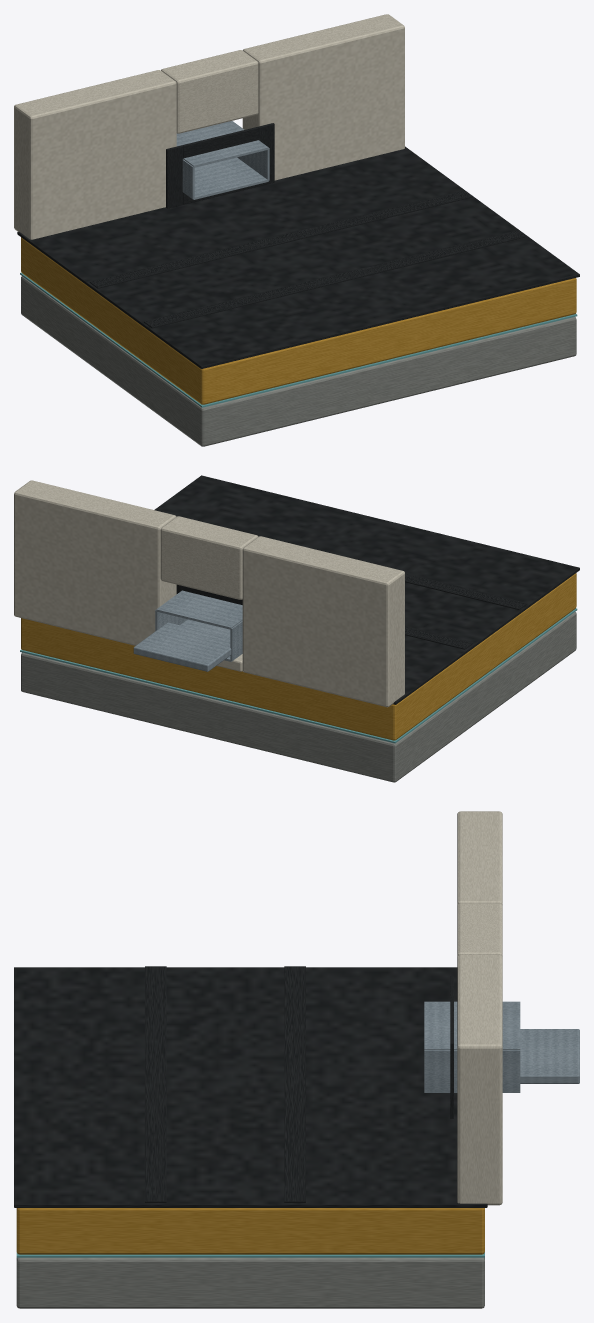
File: modell.glb
The picture shows the model from 3 angles, top to bottom: view 1: azimuth 30°, elevation 25°; view 2: azimuth 150°, elevation 25°; view 3: azimuth 270°, elevation 25°; orthographic projection. The views are drawn at different scales.
Visible parts, largest first — view 1: f04-abdichtung_deckung, f04-untergrund_, f04-untergrund_tragwerk, f04-daemmung_daemmung, f04-naht_deckung, f04-notablauf_, f04-luftdichtheit_luftdichtheit; view 2: f04-untergrund_, f04-abdichtung_deckung, f04-untergrund_tragwerk, f04-daemmung_daemmung, f04-notablauf_, f04-auslauf_, f04-luftdichtheit_luftdichtheit, f04-naht_deckung; view 3: f04-abdichtung_deckung, f04-untergrund_tragwerk, f04-daemmung_daemmung, f04-untergrund_, f04-naht_deckung, f04-notablauf_, f04-auslauf_, f04-luftdichtheit_luftdichtheit.
Part boxes in pixels (x1,y1,x2,y2): f04-abdichtung_deckung: [17, 123, 579, 368]; f04-untergrund_: [14, 14, 404, 239]; f04-untergrund_tragwerk: [21, 276, 576, 446]; f04-daemmung_daemmung: [21, 237, 576, 404]; f04-naht_deckung: [89, 190, 527, 328]; f04-notablauf_: [176, 121, 269, 199]; f04-luftdichtheit_luftdichtheit: [20, 272, 577, 407]; f04-untergrund_: [14, 480, 404, 707]; f04-abdichtung_deckung: [154, 475, 579, 704]; f04-untergrund_tragwerk: [21, 612, 576, 782]; f04-daemmung_daemmung: [21, 573, 576, 740]; f04-notablauf_: [155, 590, 242, 661]; f04-auslauf_: [133, 622, 231, 671]; f04-luftdichtheit_luftdichtheit: [20, 608, 577, 743]; f04-naht_deckung: [405, 573, 527, 649]; f04-abdichtung_deckung: [14, 967, 487, 1207]; f04-untergrund_tragwerk: [16, 1257, 484, 1308]; f04-daemmung_daemmung: [16, 1208, 484, 1254]; f04-untergrund_: [457, 811, 502, 1205]; f04-naht_deckung: [145, 966, 305, 1202]; f04-notablauf_: [424, 1001, 520, 1092]; f04-auslauf_: [520, 1029, 579, 1083]; f04-luftdichtheit_luftdichtheit: [16, 1252, 484, 1257].
Bounding box in the file's own units: 2.22 × 1.15 × 2.24.
6 materials, 5 textured.
